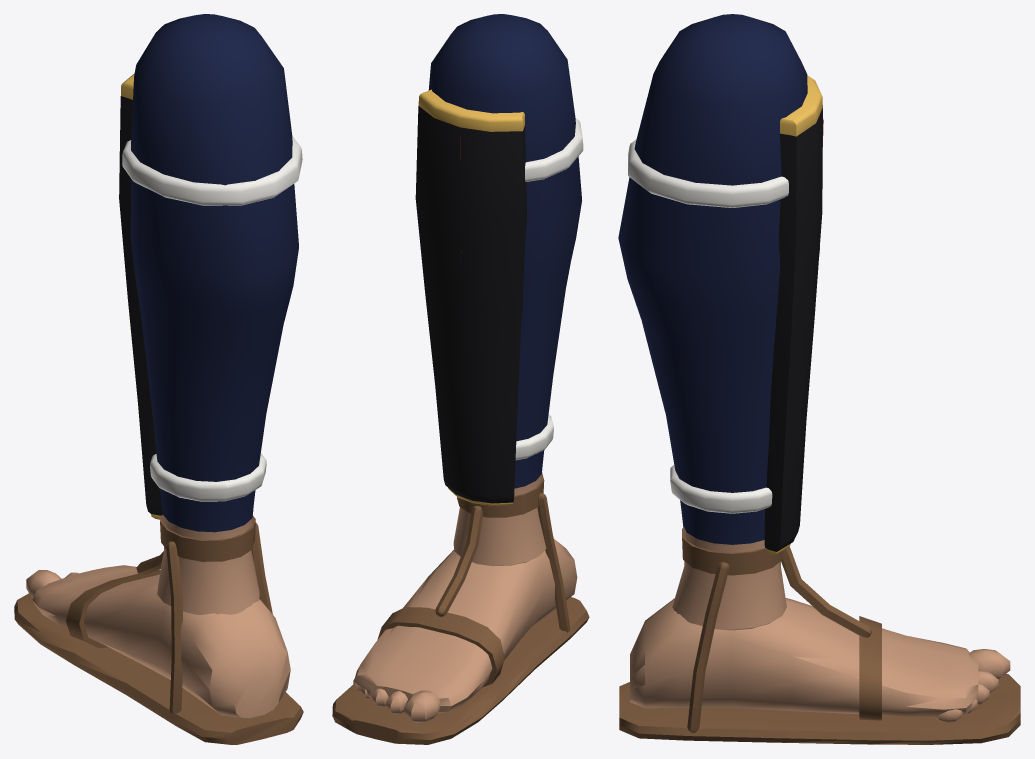
The model's file is shin_r.glb.
3 renders of one model, left to right at view 1: azimuth 30°, elevation 25°; view 2: azimuth 150°, elevation 25°; view 3: azimuth 270°, elevation 25°, orthographic. The views are drawn at different scales.
Visible parts, largest first — view 1: OUT; view 2: OUT; view 3: OUT.
Boxes of the visible parts, x1,y1,x2,y2 form: OUT: [14, 14, 303, 744]; OUT: [332, 14, 589, 744]; OUT: [618, 14, 1020, 744].
Bounding box in the file's own units: 0.1221 × 0.506 × 0.2667.
